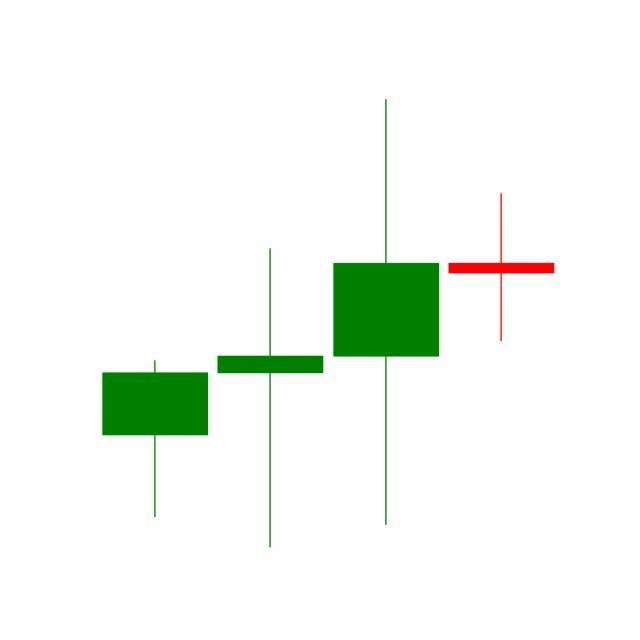Spinning Top: (444, 192, 560, 344)
